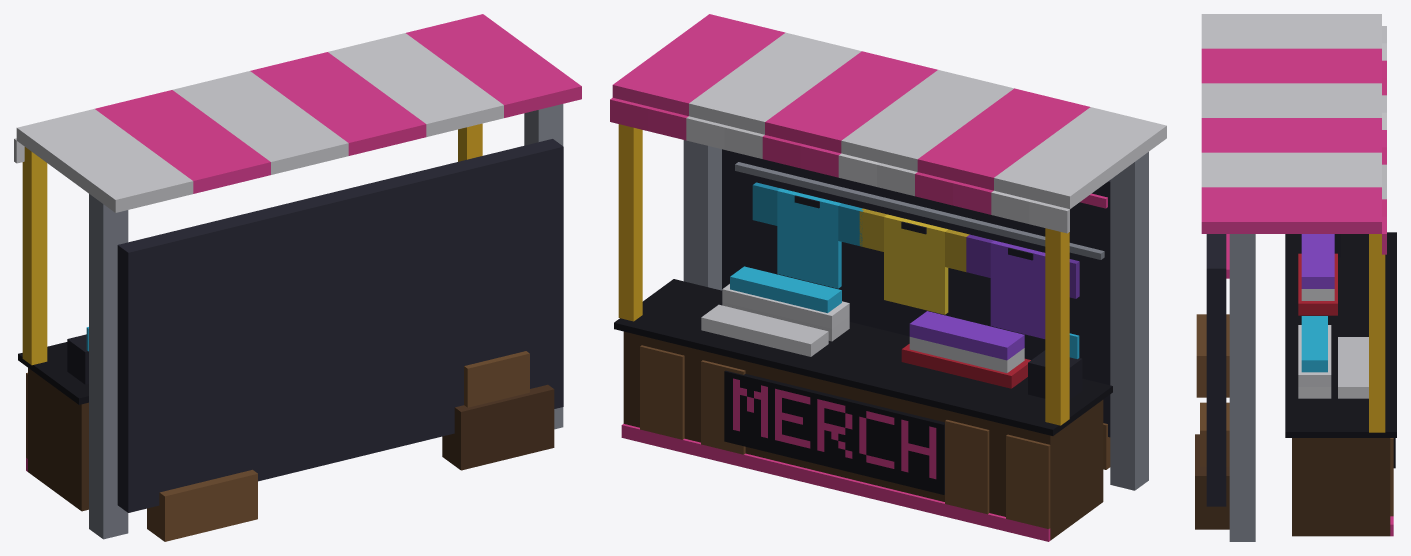
File: Decor_DJStage_MerchStand.fbx
3 views of the same model, side by side, from view 1: azimuth 30°, elevation 25°; view 2: azimuth 150°, elevation 25°; view 3: azimuth 270°, elevation 25° (orthographic). The views are drawn at different scales.
Parts seen in each view (by area): view 1: MerchStand_Body; view 2: MerchStand_Body; view 3: MerchStand_Body.
Boxes of the visible parts, bbox=[...] form: MerchStand_Body: bbox=[14, 14, 581, 541]; MerchStand_Body: bbox=[610, 14, 1166, 541]; MerchStand_Body: bbox=[1195, 14, 1396, 541].
Bounding box in the file's own units: 15 × 10.8 × 6.15.
